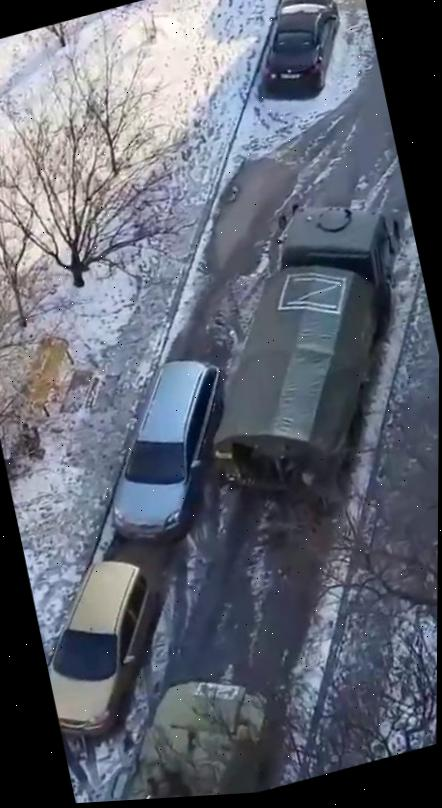armored_car: (84, 657, 289, 803)
car: (80, 346, 253, 557), (27, 547, 177, 745), (245, 0, 355, 106), (285, 0, 361, 0)
truck: (164, 169, 441, 523)
